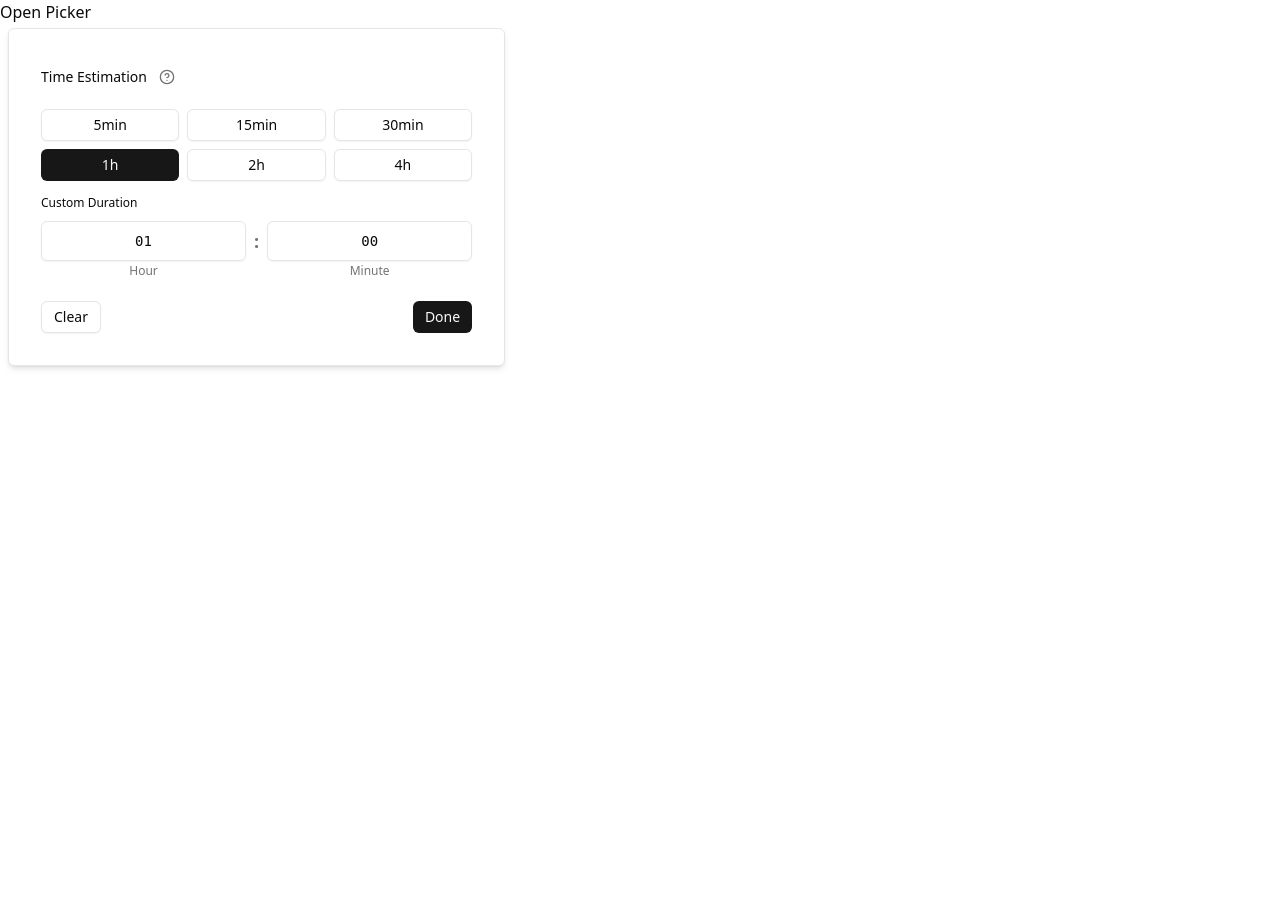
Test: TimeEstimationPicker › validation › shows error for hour input out of range
The width and height of the screenshot is (1280, 900).
Replace the text in the 1st field showing "01" with "100": coordinates (144, 241) [41, 221, 246, 261]
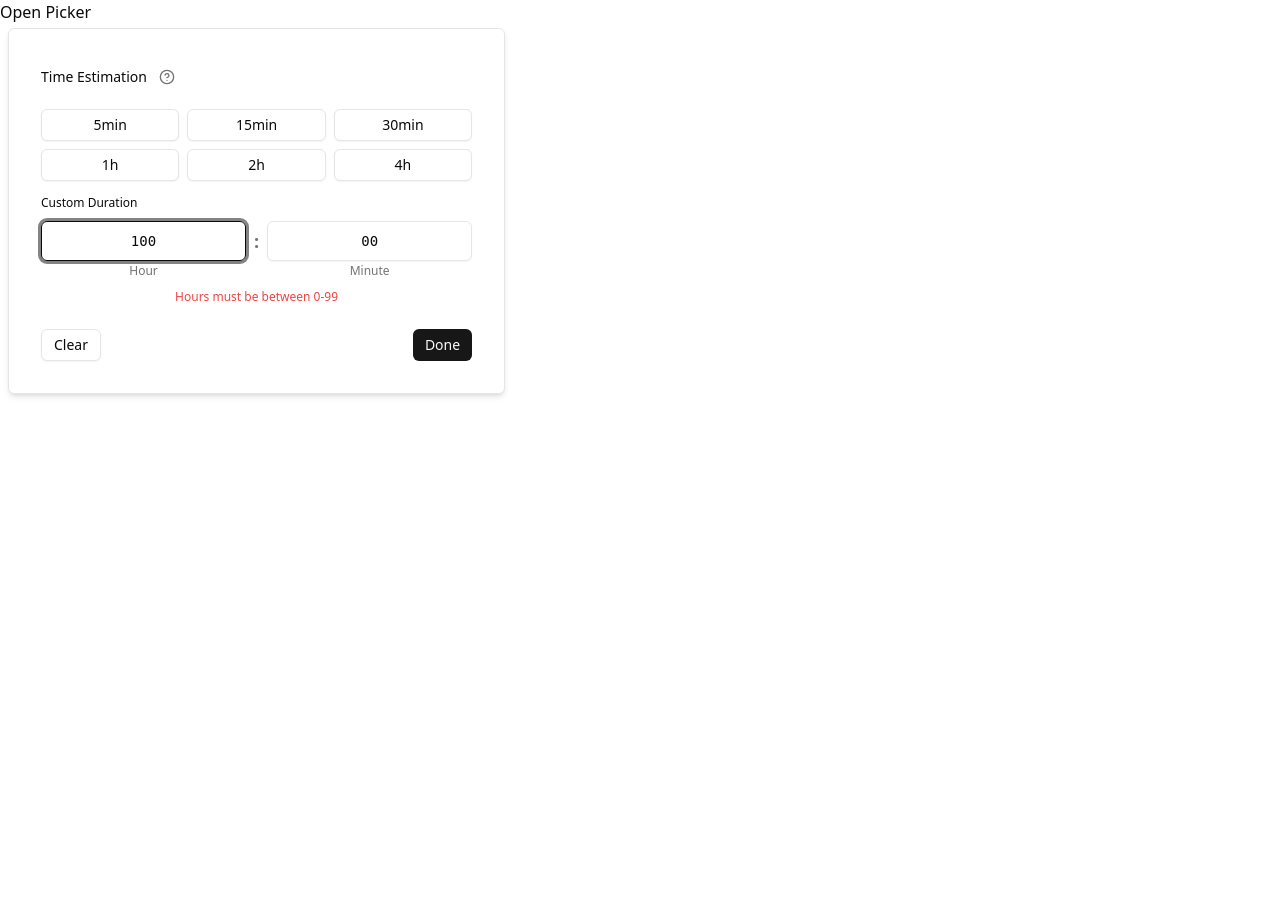
Expected: the text "Hours must be between 0-99" is shown, [175, 288, 338, 305]
